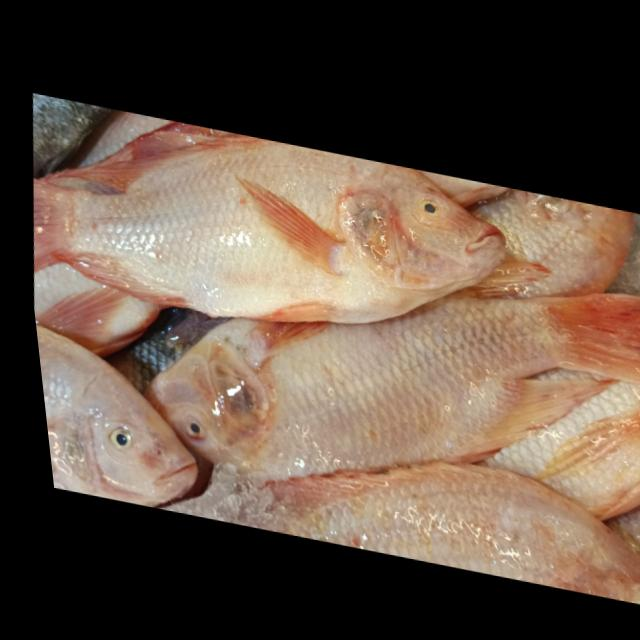Tilapia: (108, 189, 640, 565), (13, 90, 528, 374), (35, 318, 217, 516)
